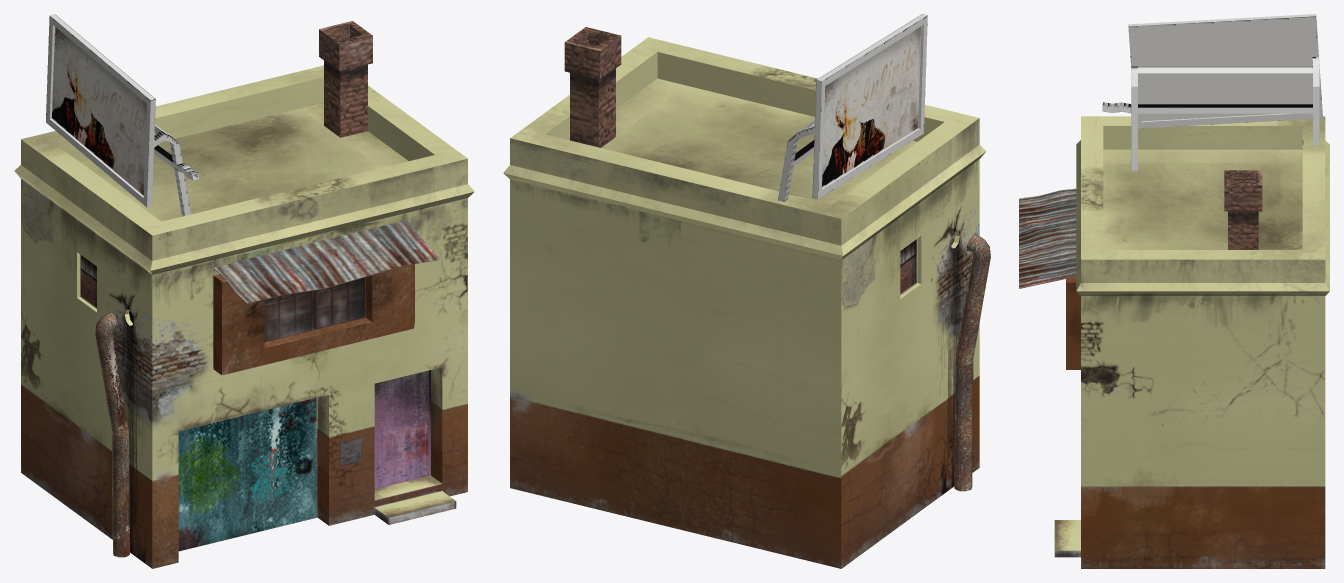
File: casa1.fbx
The picture shows the model from 3 angles, left to right: view 1: azimuth 30°, elevation 25°; view 2: azimuth 150°, elevation 25°; view 3: azimuth 270°, elevation 25°; orthographic projection. The views are drawn at different scales.
Parts seen in each view (by area): view 1: casa; view 2: casa; view 3: casa.
Part boxes in pixels (x1=…): casa: x1=14, y1=14, x2=474, y2=568; casa: x1=503, y1=14, x2=990, y2=568; casa: x1=1019, y1=14, x2=1329, y2=568.
Size of the model in its own units: 101 by 124 by 82.65.
1 material, 1 textured.
